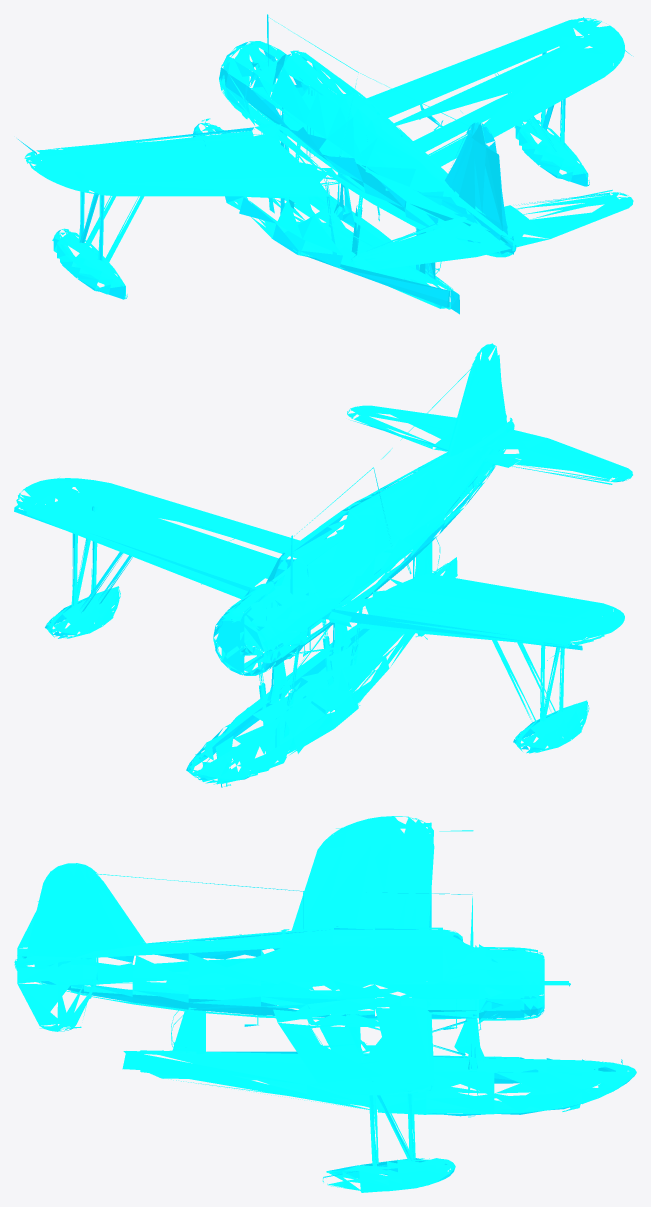
Rendered from PVAS005.glb.
3 renders of one model, top to bottom at view 1: azimuth 30°, elevation 25°; view 2: azimuth 150°, elevation 25°; view 3: azimuth 270°, elevation 25°, orthographic. The views are drawn at different scales.
Visible parts, largest first — view 1: misc; view 2: misc; view 3: misc.
Part boxes in pixels (left/top/right/bottom): misc: left=18, top=14, right=633, bottom=314; misc: left=14, top=343, right=632, bottom=787; misc: left=14, top=816, right=636, bottom=1192.
Size of the model in its own units: 0.7243 by 0.3067 by 0.6844.
